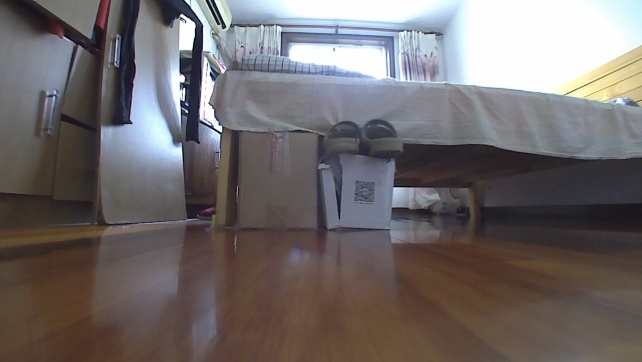bed1: (202, 42, 641, 231)
